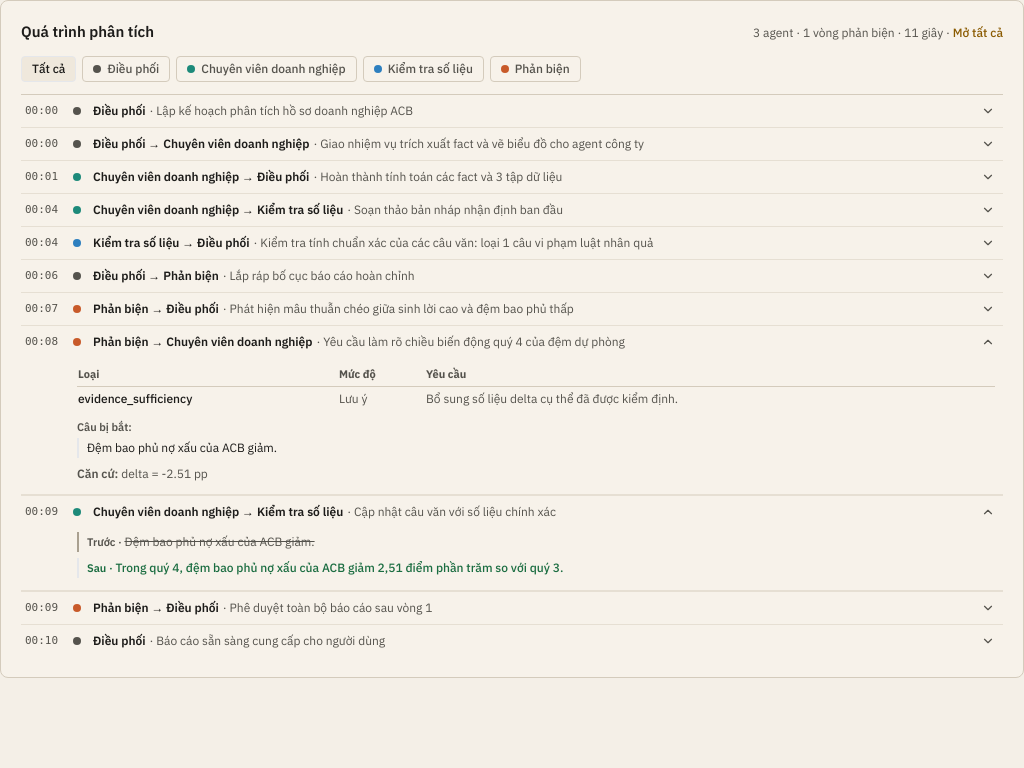
it: ER-6 ProcessTrace › filters steps by actor when clicking an agent chip
Expected: the text "3 agent · 1 vòng phản biện · 11 giây · Mở tất cả" is shown, [753, 25, 1003, 41]
Click "Chuyên viên doanh nghiệp" chip in the filter group
Click the button "Chuyên viên doanh nghiệp" at (266, 68), box [176, 56, 357, 82]
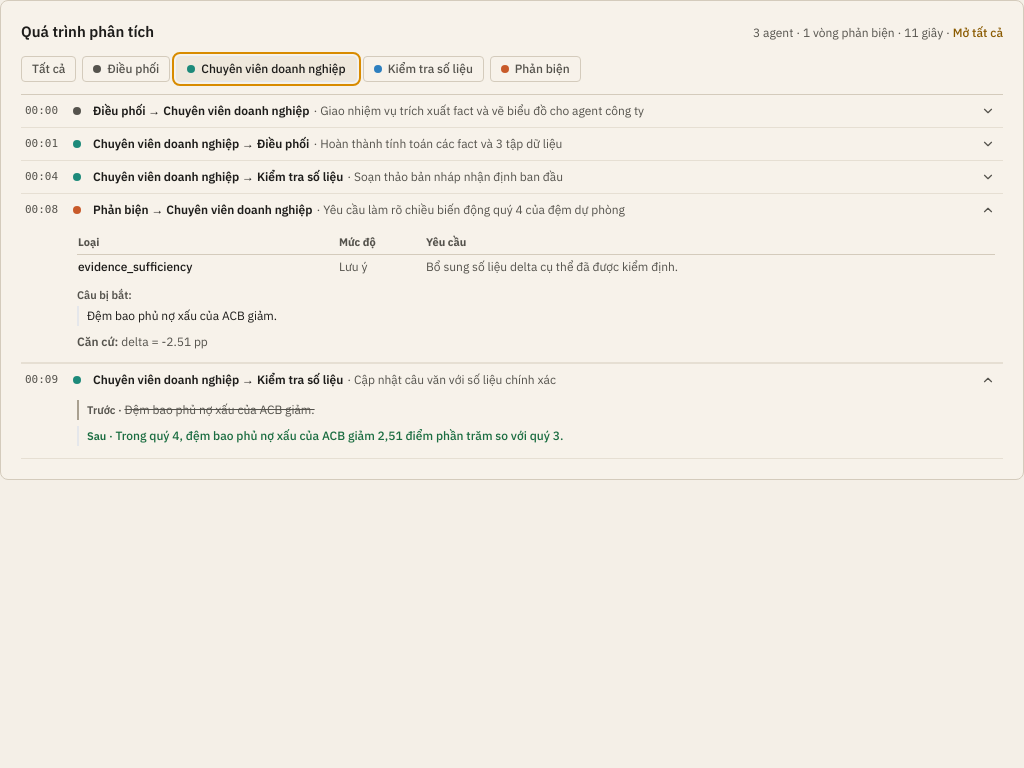
Expected: the text "· Soạn thảo bản nháp nhận định ban đầu" is shown, [347, 168, 563, 184]
Result: the button "Lập kế hoạch phân tích hồ sơ doanh nghiệp ACB" is gone
